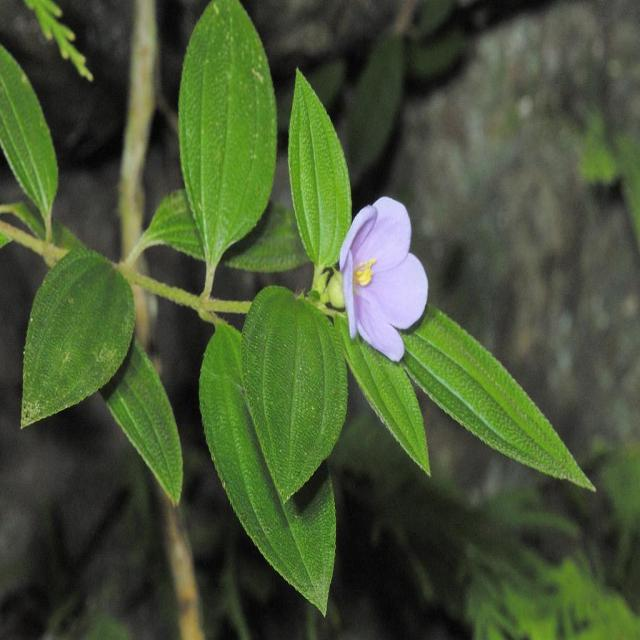organic waste: (326, 178, 437, 369)
